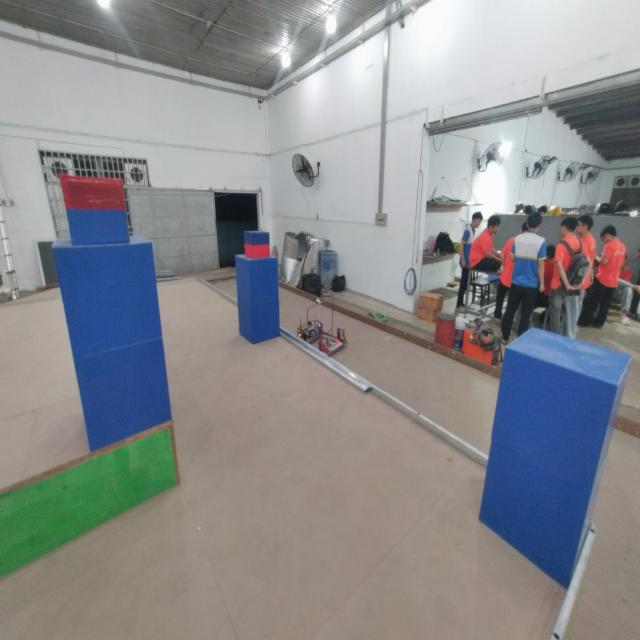earth_block: (49, 242, 168, 349), (235, 255, 281, 300), (238, 300, 282, 343)
sky_block: (54, 170, 131, 243), (246, 227, 272, 257)
